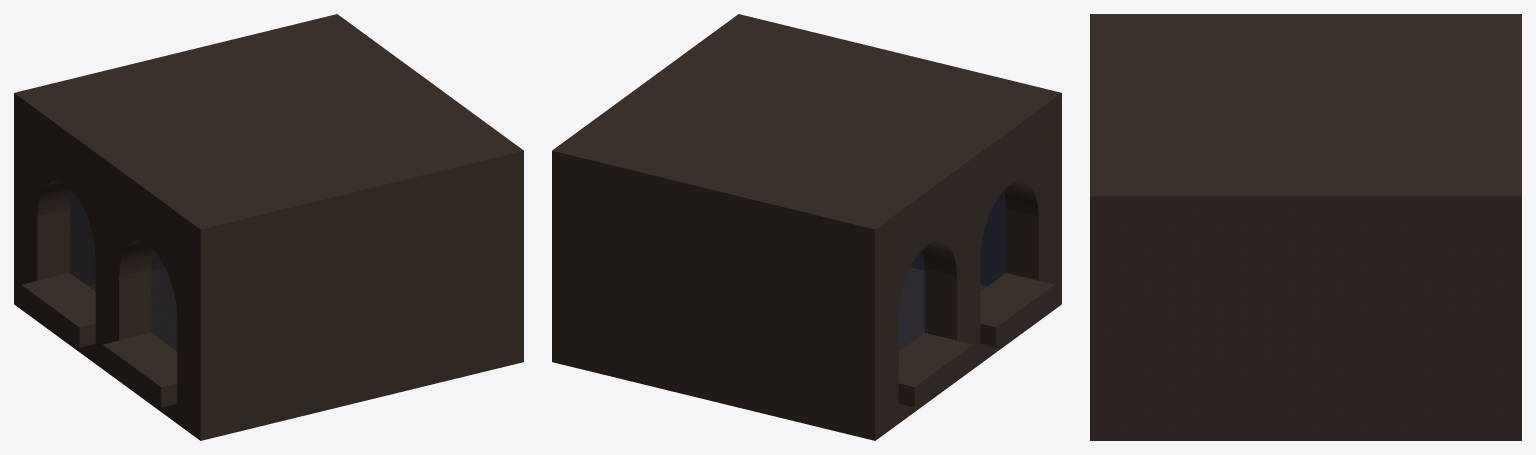
File: modularBuildings_030.obj
The picture shows the model from 3 angles, left to right: view 1: azimuth 30°, elevation 25°; view 2: azimuth 150°, elevation 25°; view 3: azimuth 270°, elevation 25°; orthographic projection. The views are drawn at different scales.
Visible parts, largest first — view 1: Mesh1 Group1 Model; view 2: Mesh1 Group1 Model; view 3: Mesh1 Group1 Model.
Boxes of the visible parts, x1=… form: Mesh1 Group1 Model: x1=14, y1=14, x2=523, y2=440; Mesh1 Group1 Model: x1=552, y1=14, x2=1061, y2=440; Mesh1 Group1 Model: x1=1090, y1=14, x2=1521, y2=440.
Size of the model in its own units: 1.05 by 0.625 by 1.
Materials: 2 (2 with a texture image).
